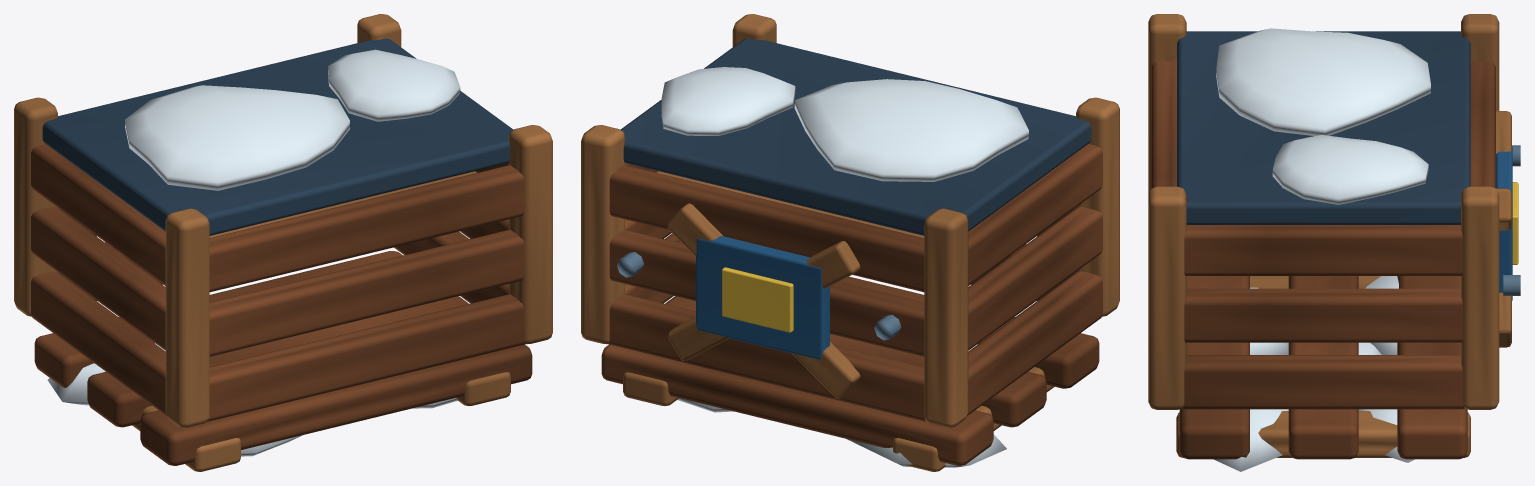
Rendered from cargo_crate.glb.
3 renders of one model, left to right at view 1: azimuth 30°, elevation 25°; view 2: azimuth 150°, elevation 25°; view 3: azimuth 270°, elevation 25°, orthographic. The views are drawn at different scales.
Visible parts, largest first — view 1: cargo_crate; view 2: cargo_crate; view 3: cargo_crate.
Part boxes in pixels (box(x1,y1,x2,y2)): cargo_crate: box(14, 14, 552, 471); cargo_crate: box(581, 14, 1119, 471); cargo_crate: box(1148, 14, 1520, 471).
Size of the model in its own units: 1.42 by 1.07 by 1.17.
